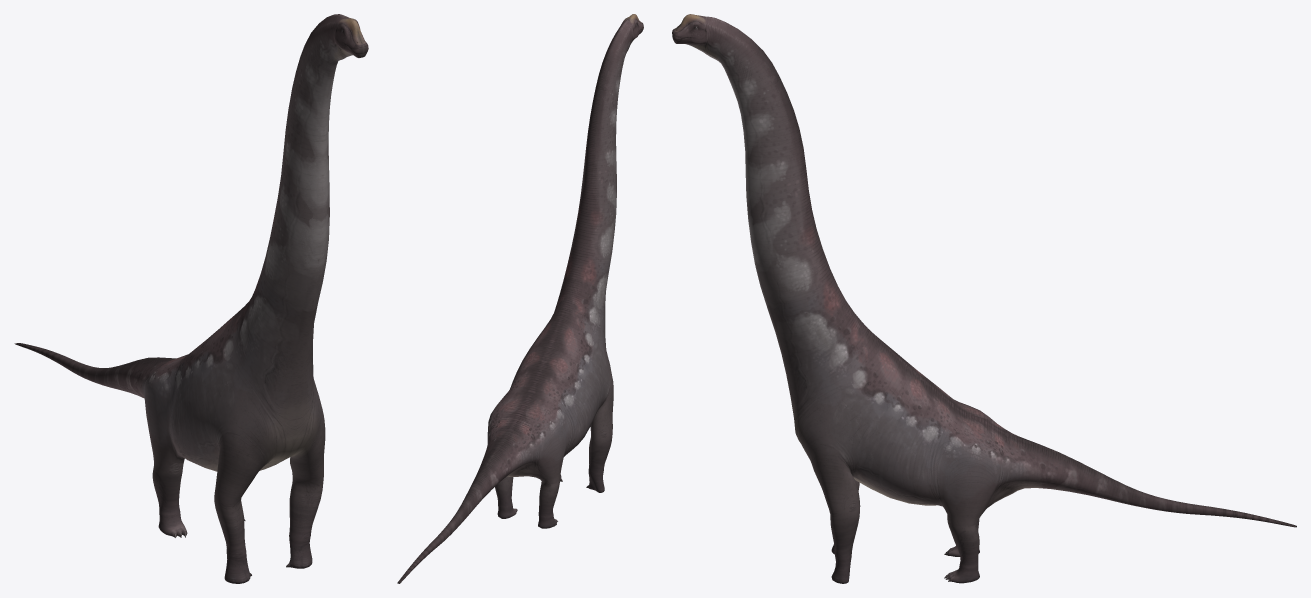
The model's file is braquiossauro_parado.glb.
The picture shows the model from 3 angles, left to right: view 1: azimuth 30°, elevation 25°; view 2: azimuth 150°, elevation 25°; view 3: azimuth 270°, elevation 25°; orthographic projection. The views are drawn at different scales.
Parts seen in each view (by area): view 1: Object_2_fixo; view 2: Object_2_fixo; view 3: Object_2_fixo.
Part boxes in pixels (x1,y1,x2,y2): Object_2_fixo: (14, 14, 368, 583); Object_2_fixo: (397, 14, 643, 583); Object_2_fixo: (672, 14, 1296, 583).
Size of the model in its own units: 123 by 665 by 682.
Materials: 1 (1 with a texture image).
